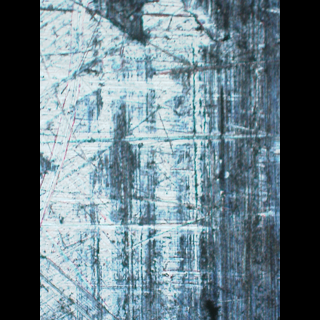d: (40, 3, 242, 319)
